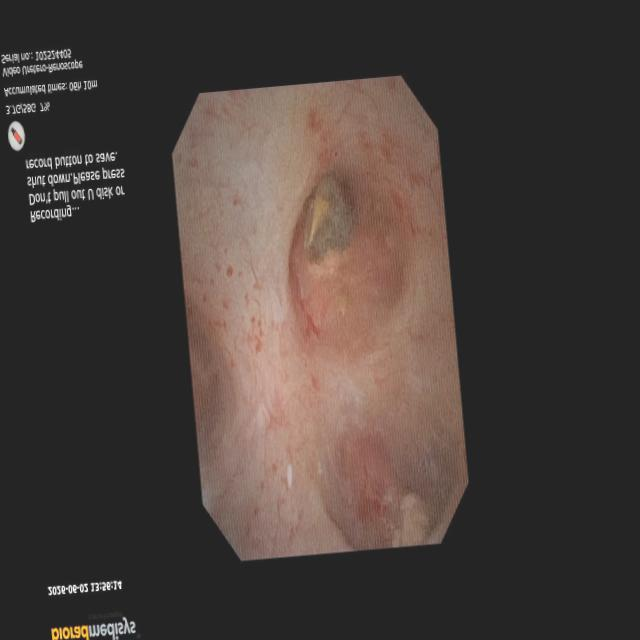stone-new: (303, 173, 354, 265)
